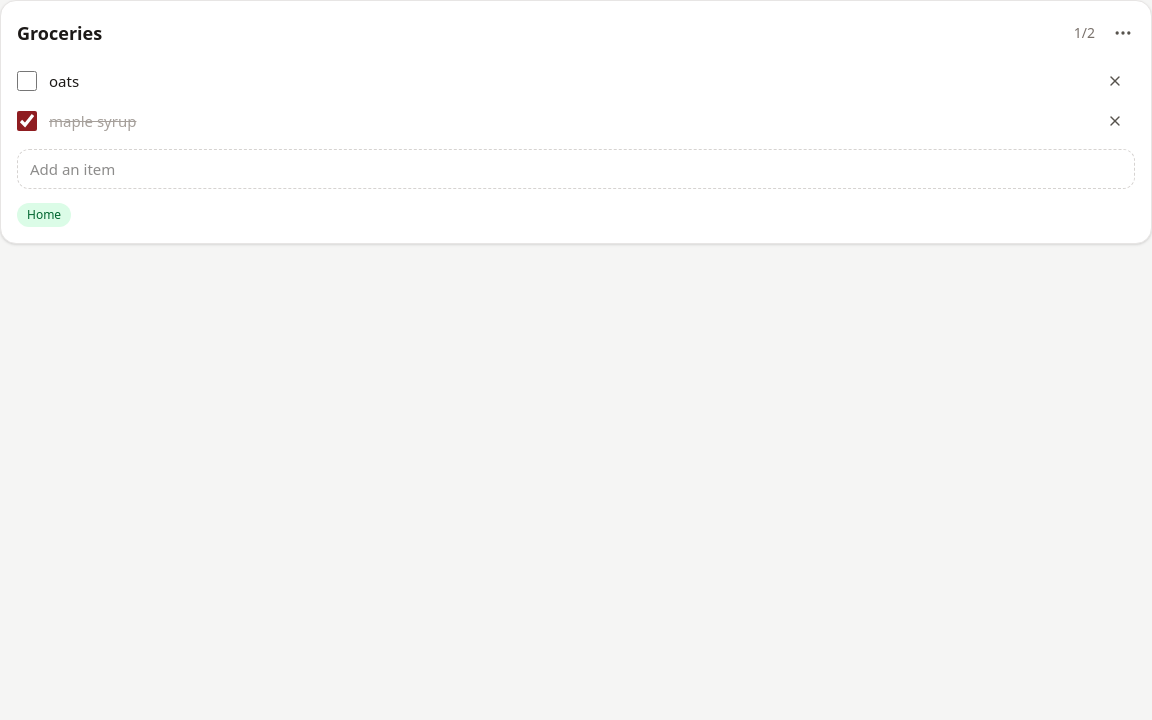
Test case: TodoPage › moves a list to the trash, and puts labels on it while labels are on
This screenshot has width=1152, height=720.
What coordinates should you click on to do the following:
click the button named "List actions"
I would click on:
 (1123, 33)
Its box is [1103,13,1143,53].
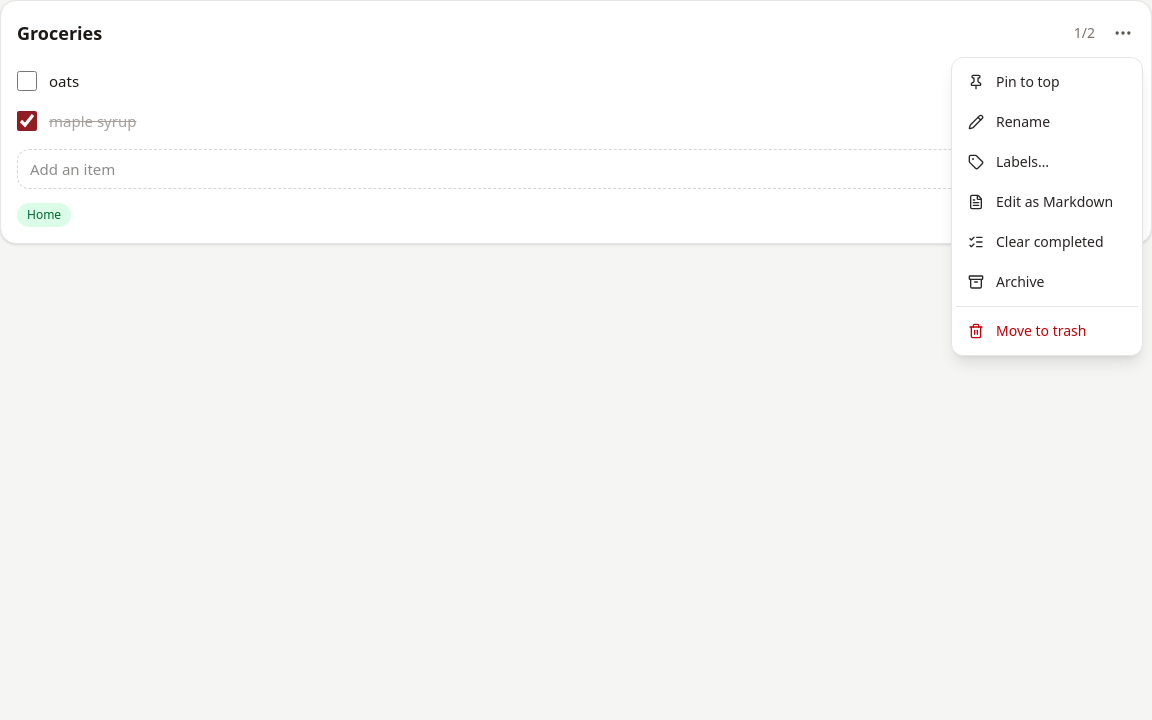
Expected: the menu item "Labels…" is shown, [968,152,1049,171]
What coordinates should you click on to do the following:
click the menu item "Move to trash"
I would click on:
 (1027, 330)
Its box is [968,321,1086,340].
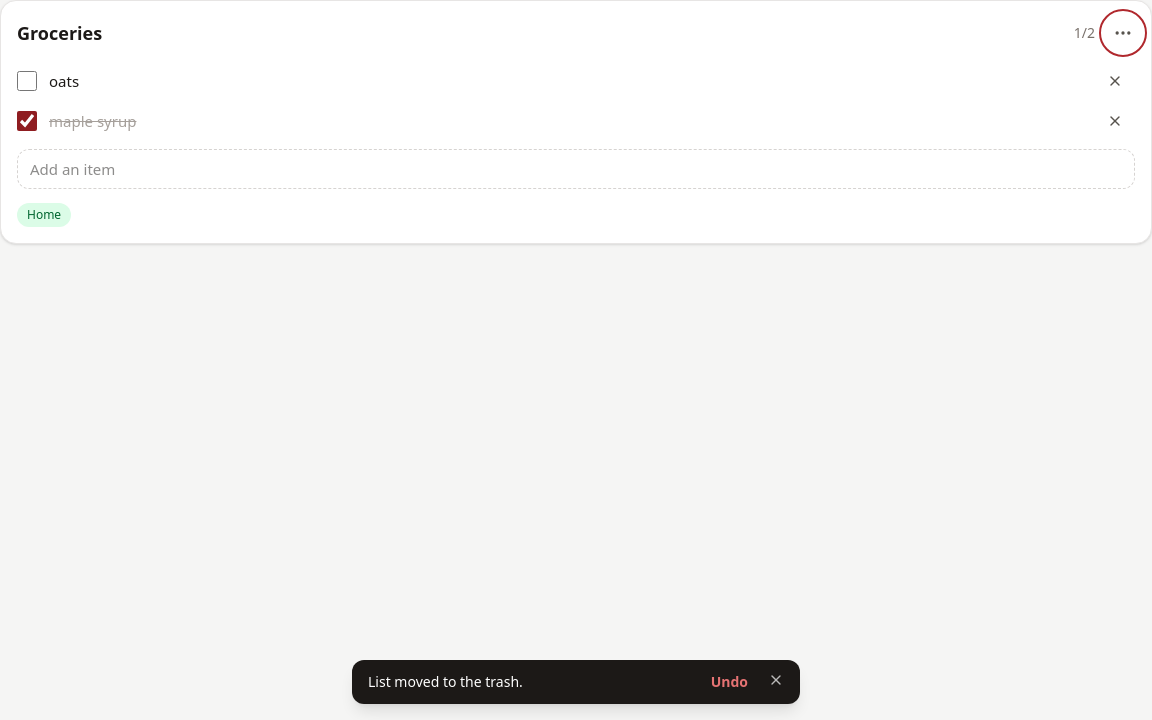
Expected: the text "List moved to the trash." is shown, [368,672,523,691]
